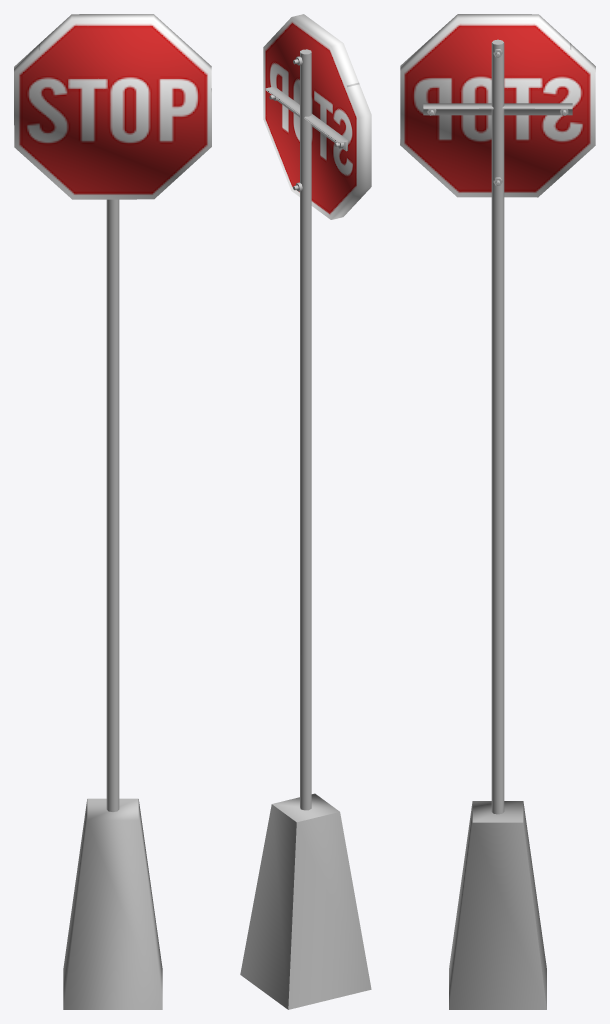
File: TrafficSign3.fbx
3 renders of one model, left to right at view 1: azimuth 90°, elevation 25°; view 2: azimuth 210°, elevation 25°; view 3: azimuth 270°, elevation 25°, orthographic. The views are drawn at different scales.
Parts seen in each view (by area): view 1: TrafficSign3; view 2: TrafficSign3; view 3: TrafficSign3.
Part boxes in pixels (x1,y1,x2,y2): TrafficSign3: [14, 14, 211, 1009]; TrafficSign3: [240, 14, 371, 1009]; TrafficSign3: [400, 14, 595, 1009].
Size of the model in its own units: 0.4226 by 0.8447 by 4.6.
